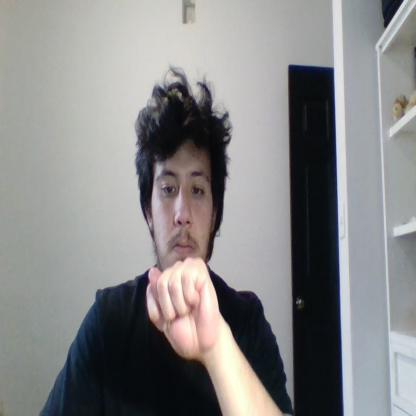T: (146, 256, 218, 359)
